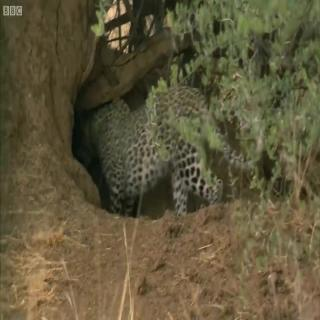Leopard: (83, 80, 234, 220)
